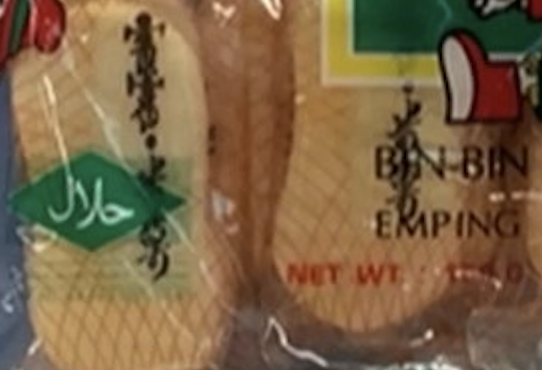halal: (49, 177, 129, 232)
